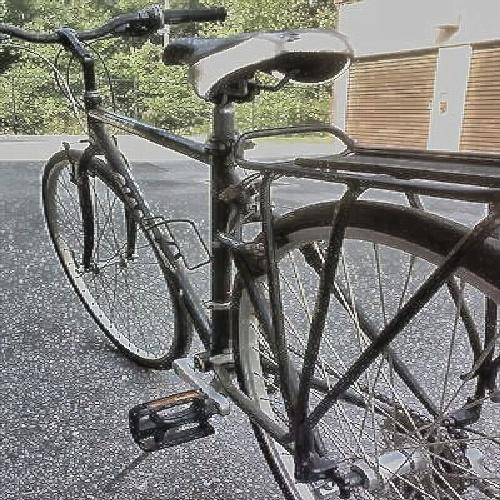bicycle: (17, 22, 485, 479)
